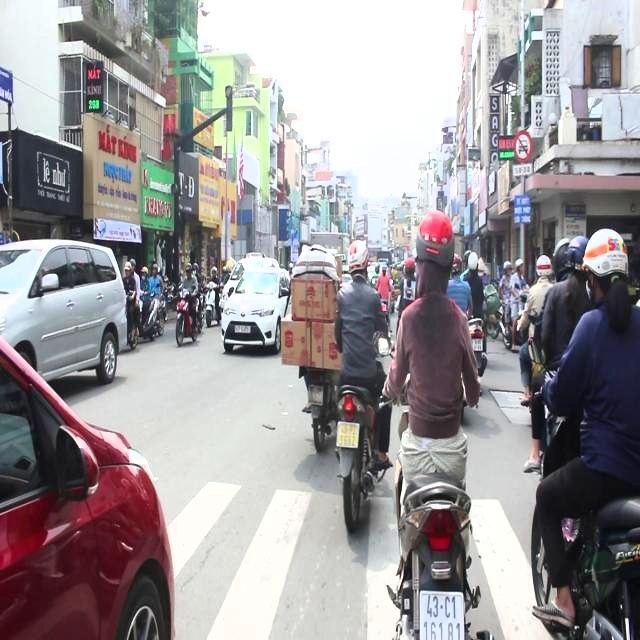P.103a: (513, 127, 535, 166)
